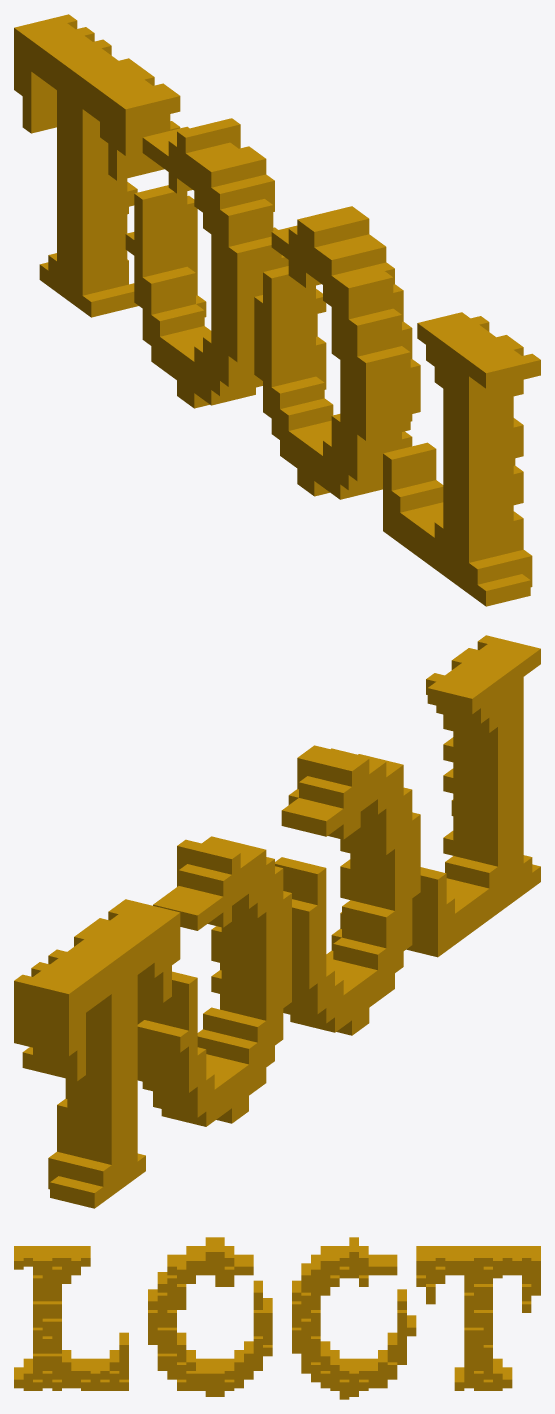
Rendered from l00tperform.glb.
3 views of the same model, one above another, from view 1: azimuth 30°, elevation 25°; view 2: azimuth 150°, elevation 25°; view 3: azimuth 270°, elevation 25° (orthographic). The views are drawn at different scales.
Parts seen in each view (by area): view 1: Text; view 2: Text; view 3: Text.
Boxes of the visible parts, x1=… form: Text: x1=14, y1=14, x2=540, y2=606; Text: x1=14, y1=635, x2=540, y2=1208; Text: x1=14, y1=1237, x2=540, y2=1399.
Size of the model in its own units: 0.1174 by 0.5405 by 1.75.
